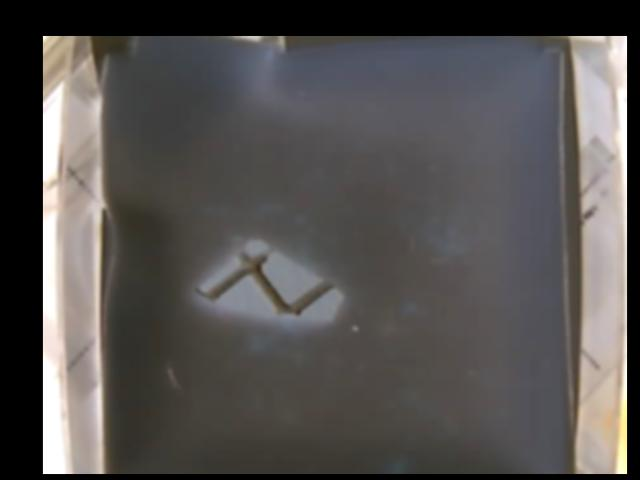China: (194, 237, 339, 320)
